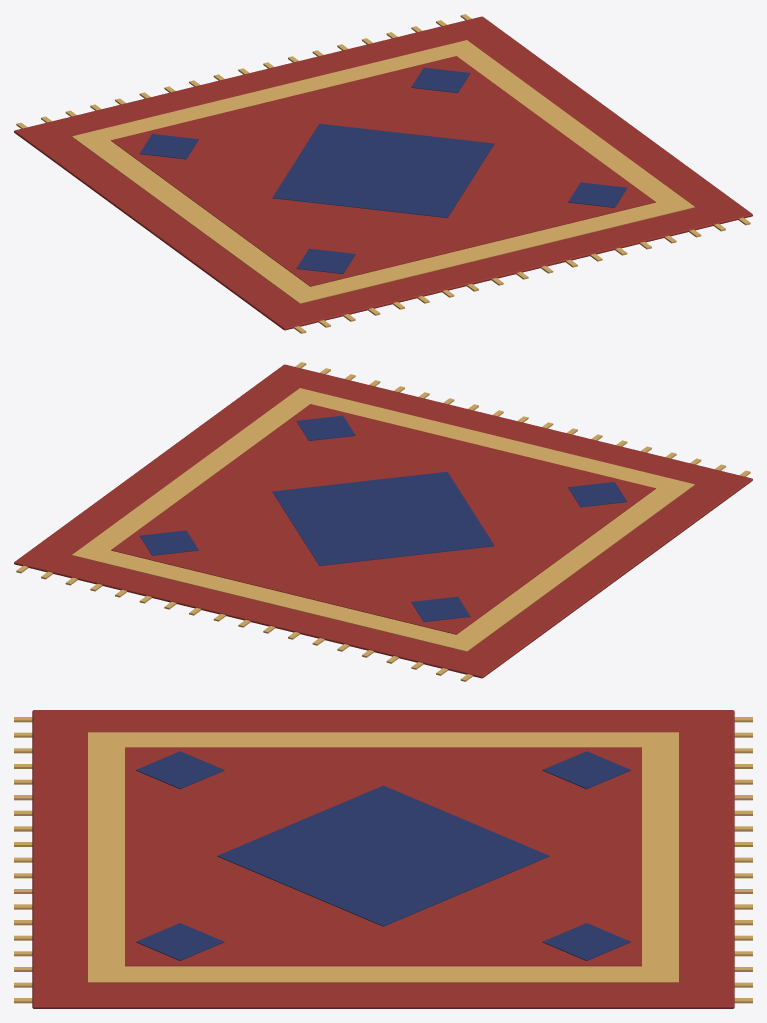
File: rug.glb
The picture shows the model from 3 angles, top to bottom: view 1: azimuth 30°, elevation 25°; view 2: azimuth 150°, elevation 25°; view 3: azimuth 270°, elevation 25°; orthographic projection. The views are drawn at different scales.
Visible parts, largest first — view 1: Cube.002, Cube, Cube.001, Cylinder, Cylinder.001, Cylinder.002, Cylinder.003, Cylinder.004; view 2: Cube.002, Cube, Cube.001, Cylinder, Cylinder.003, Cylinder.001, Cylinder.004, Cylinder.002; view 3: Cube.002, Cube, Cube.001, Cylinder, Cylinder.002, Cylinder.004, Cylinder.001, Cylinder.003.
Part boxes in pixels (bbox=[...]): Cube.002: bbox=[111, 56, 655, 286]; Cube: bbox=[14, 16, 752, 330]; Cube.001: bbox=[72, 40, 694, 303]; Cylinder: bbox=[272, 123, 494, 217]; Cylinder.001: bbox=[139, 134, 198, 159]; Cylinder.002: bbox=[411, 67, 470, 92]; Cylinder.003: bbox=[296, 248, 355, 273]; Cylinder.004: bbox=[568, 182, 626, 207]; Cube.002: bbox=[111, 404, 655, 634]; Cube: bbox=[14, 364, 752, 678]; Cube.001: bbox=[72, 388, 694, 651]; Cylinder: bbox=[272, 471, 494, 565]; Cylinder.003: bbox=[568, 482, 627, 507]; Cylinder.001: bbox=[411, 596, 470, 621]; Cylinder.004: bbox=[296, 415, 355, 440]; Cylinder.002: bbox=[140, 530, 198, 555]; Cube.002: bbox=[125, 747, 641, 966]; Cube: bbox=[32, 710, 734, 1008]; Cube.001: bbox=[88, 732, 678, 982]; Cylinder: bbox=[217, 785, 549, 926]; Cylinder.002: bbox=[542, 923, 630, 960]; Cylinder.004: bbox=[136, 923, 224, 960]; Cylinder.001: bbox=[542, 751, 630, 789]; Cylinder.003: bbox=[136, 751, 224, 789].
Bounding box in the file's own units: 1.9 × 0.016 × 2.
